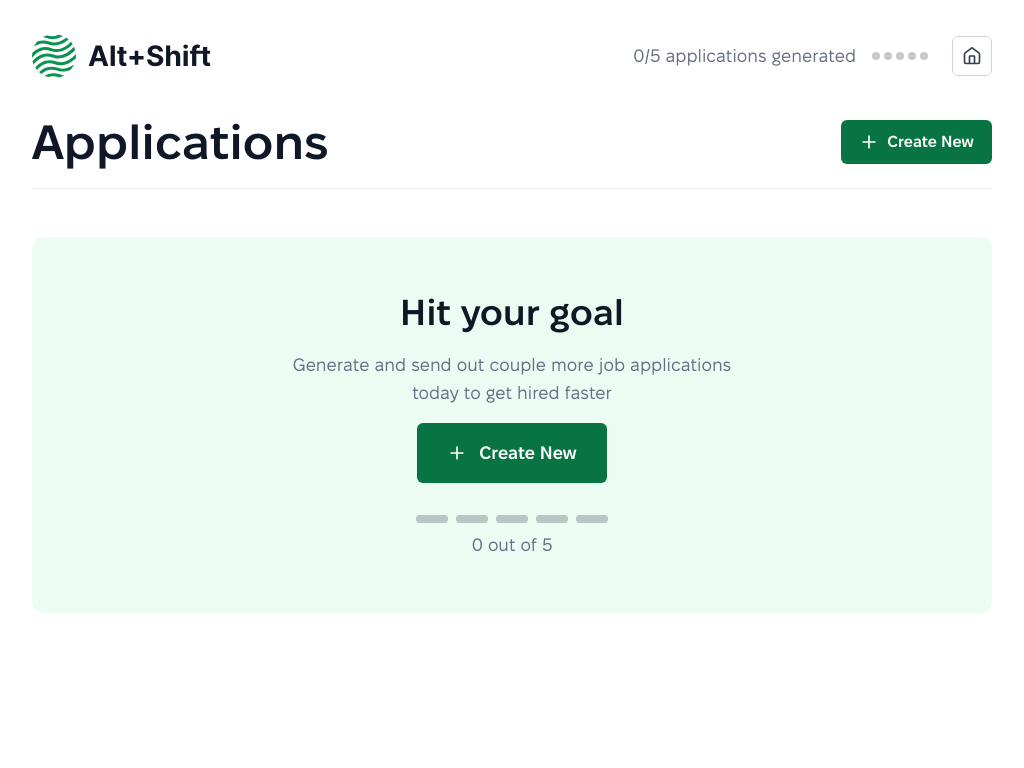
Scenario: ApplicationsPage › navigates to the create placeholder
Click the 1st button "Create New".
click(917, 142)  # box [841,120,992,164]
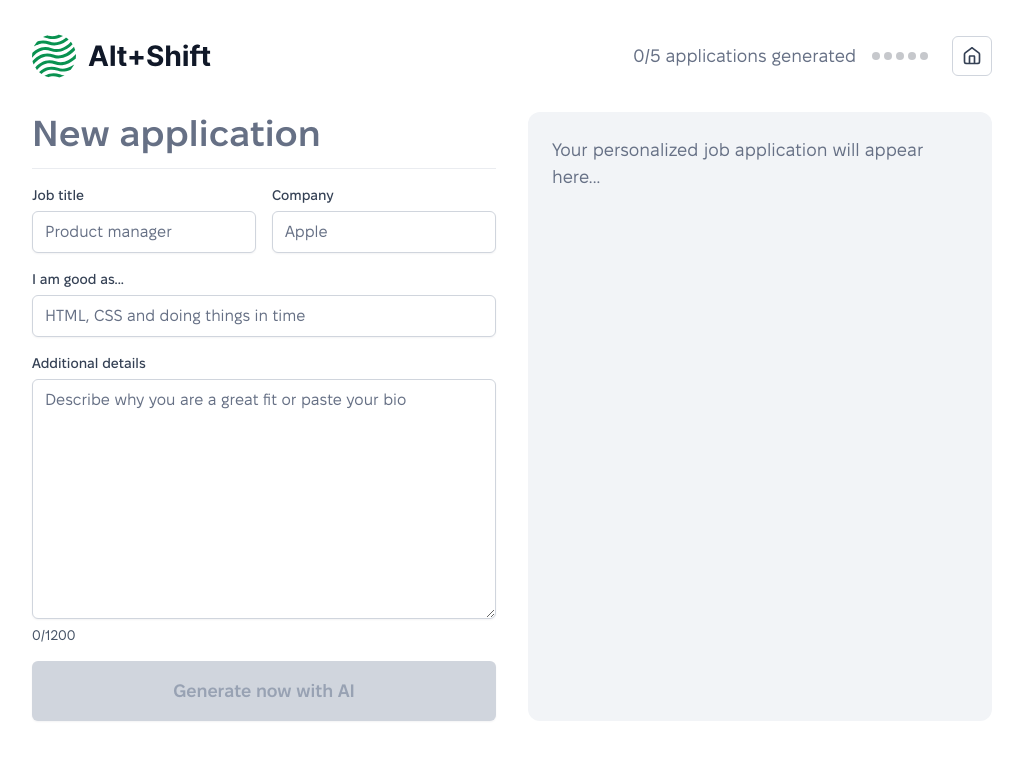
Result: the heading "New application" is shown at [32,112,496,169]
Result: the field labelled "Job title" is shown at [32,211,256,253]
Result: the button "Generate now with AI" is shown at [32,661,496,721]
